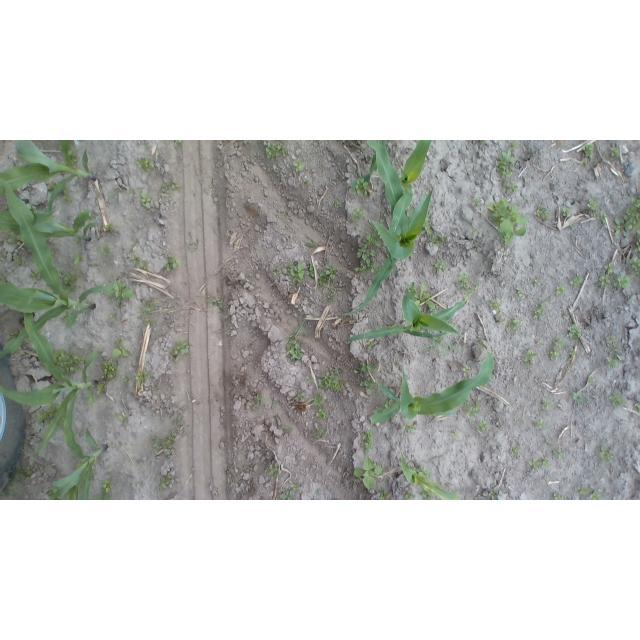Maize: (1, 177, 104, 355), (355, 141, 436, 316), (1, 313, 100, 454), (369, 337, 494, 424), (1, 141, 100, 214), (344, 291, 467, 342), (53, 428, 110, 500), (390, 140, 433, 233), (0, 209, 100, 243), (400, 454, 461, 500), (365, 141, 386, 180)
Weeds: (489, 204, 526, 245), (153, 413, 186, 457), (352, 456, 382, 493), (356, 230, 381, 274), (615, 196, 640, 236), (53, 348, 84, 376), (274, 260, 307, 286), (94, 362, 118, 397), (319, 367, 347, 393), (421, 339, 459, 358), (107, 281, 135, 305), (286, 329, 305, 363), (318, 262, 342, 288), (497, 151, 519, 178), (424, 222, 447, 247), (415, 284, 435, 309), (548, 335, 566, 361), (350, 177, 370, 196), (279, 482, 301, 499), (166, 253, 183, 274), (34, 405, 56, 421), (361, 431, 376, 454), (528, 456, 551, 471), (112, 339, 130, 358), (62, 272, 78, 293), (170, 341, 191, 357), (275, 416, 293, 434), (583, 144, 598, 165), (627, 255, 640, 278), (457, 273, 474, 290), (11, 468, 36, 479), (533, 204, 550, 220), (433, 258, 449, 275), (140, 157, 156, 174), (142, 298, 159, 314), (534, 301, 549, 319), (463, 406, 482, 420), (157, 184, 181, 195), (158, 474, 174, 490), (525, 347, 540, 364), (610, 393, 628, 407), (614, 275, 632, 289), (265, 141, 279, 159), (507, 317, 523, 332), (309, 392, 325, 407), (359, 377, 375, 392), (310, 428, 327, 441), (600, 445, 612, 463), (588, 196, 600, 214), (567, 323, 581, 338), (350, 208, 364, 223), (70, 254, 86, 267), (573, 391, 587, 405), (265, 460, 279, 474), (417, 464, 432, 477), (489, 298, 505, 310), (142, 192, 153, 209), (100, 478, 113, 492), (541, 398, 556, 410), (599, 274, 611, 289), (606, 336, 622, 347), (279, 140, 290, 156), (462, 364, 475, 377), (606, 357, 620, 369), (610, 145, 622, 159), (451, 431, 463, 445), (293, 161, 306, 173), (295, 389, 307, 402), (420, 492, 437, 501), (135, 371, 150, 381), (570, 276, 582, 288), (604, 263, 616, 275), (6, 232, 18, 244), (62, 189, 74, 201), (536, 421, 549, 432), (361, 362, 375, 372), (378, 488, 389, 500), (404, 489, 416, 500), (561, 206, 571, 219), (255, 396, 265, 409), (511, 446, 525, 455), (365, 341, 379, 350), (316, 409, 327, 420), (13, 253, 22, 266), (552, 492, 565, 501), (404, 425, 418, 433), (478, 423, 488, 434), (507, 183, 518, 193), (557, 285, 567, 296), (139, 260, 149, 271), (30, 269, 41, 279), (332, 199, 343, 209), (487, 490, 498, 500), (102, 245, 111, 257), (569, 346, 578, 358), (309, 264, 316, 279), (518, 288, 526, 301), (472, 198, 482, 208), (90, 496, 110, 501), (590, 489, 599, 500), (119, 412, 130, 421), (110, 311, 119, 322), (552, 448, 564, 456), (50, 490, 59, 500), (588, 378, 597, 387), (614, 350, 623, 359), (578, 486, 587, 495), (510, 141, 520, 149), (47, 181, 57, 189), (544, 438, 554, 446), (172, 140, 185, 146), (601, 213, 608, 224), (305, 241, 316, 248), (385, 400, 394, 408), (105, 224, 114, 232), (374, 407, 384, 414), (9, 330, 19, 337), (131, 254, 142, 260), (499, 315, 507, 323), (303, 178, 310, 187), (533, 281, 543, 287), (329, 293, 335, 303), (120, 376, 130, 382), (130, 186, 137, 194), (64, 310, 71, 318), (143, 320, 153, 325), (212, 300, 222, 305), (637, 237, 640, 252), (635, 402, 640, 410), (473, 228, 479, 234), (536, 339, 542, 344), (481, 140, 488, 144)
